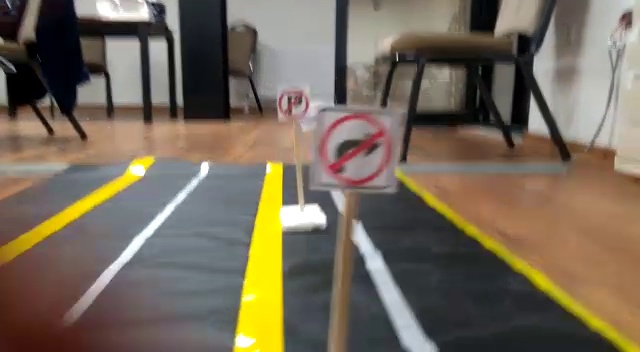park_yapilmaz: (277, 89, 311, 120)
saga_donulmez: (317, 107, 399, 190)
